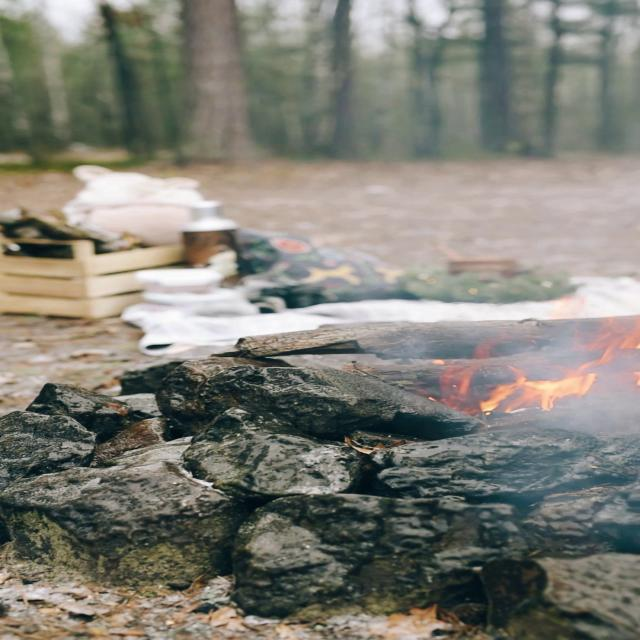Fire: (486, 300, 640, 427)
Smoke: (306, 48, 640, 290)
